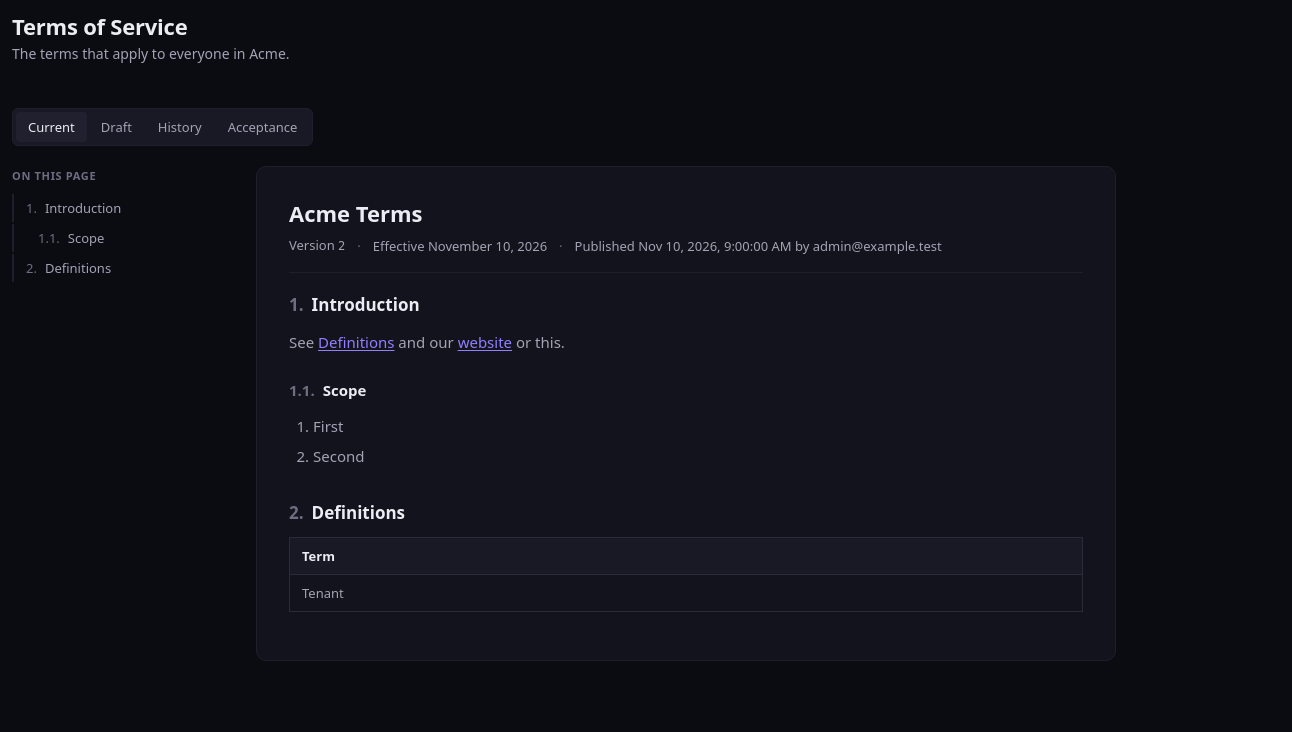
Test: Terms of Service page › History › Acceptances opens the Acceptance tab filtered on that version
This screenshot has width=1292, height=732.
Click the tab "History": (180, 127) [146, 112, 214, 142]
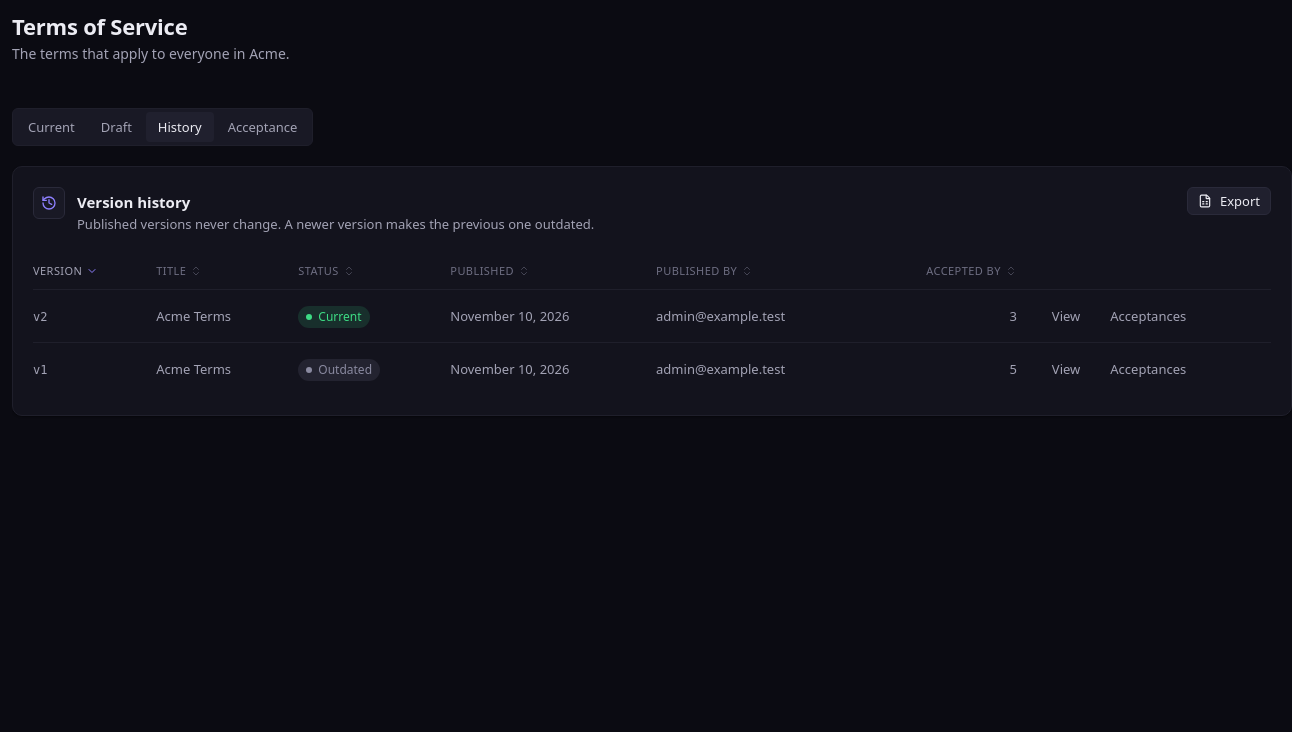
Click the 2nd button "Acceptances": (1148, 369) [1099, 355, 1197, 383]
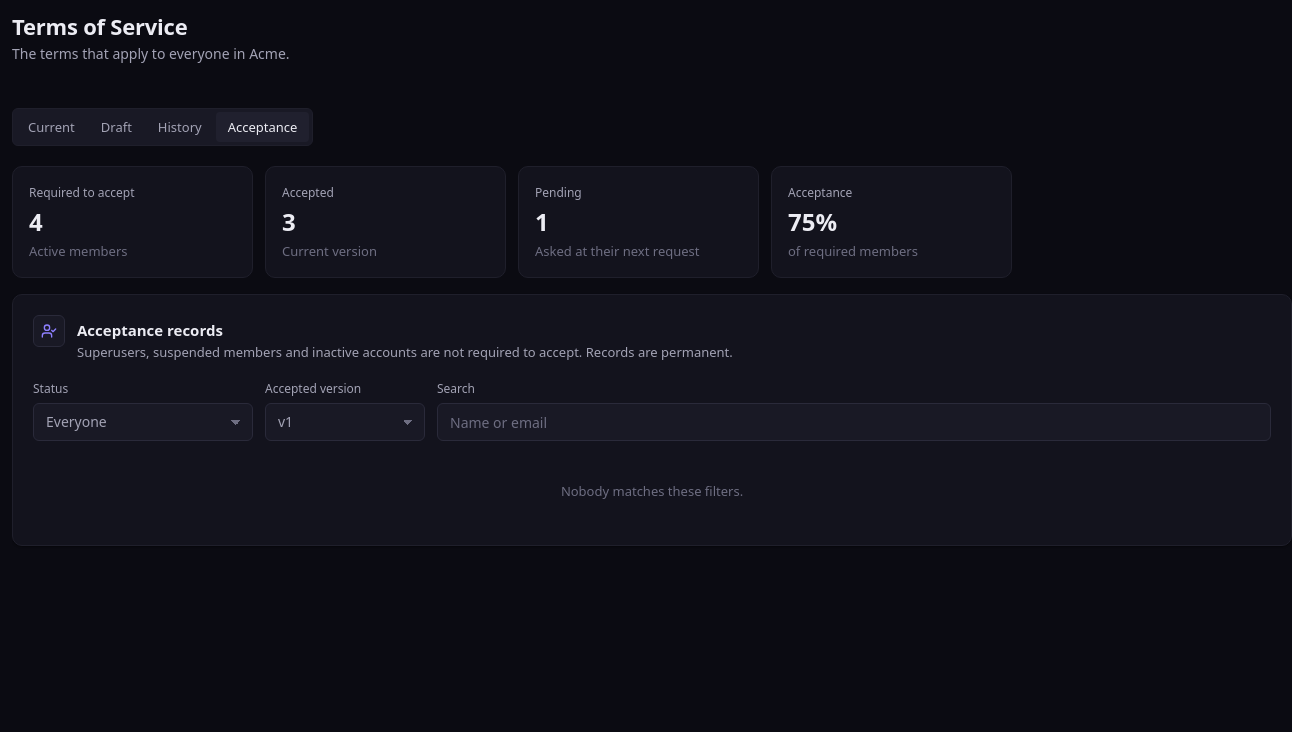
Result: the dropdown labelled "Accepted version" shows "v1" at [266, 404, 424, 440]
